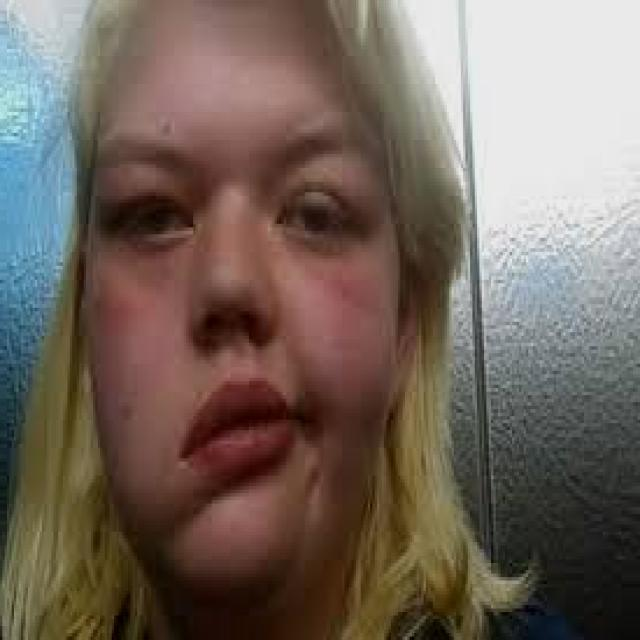stroke_face: (77, 0, 416, 624)
